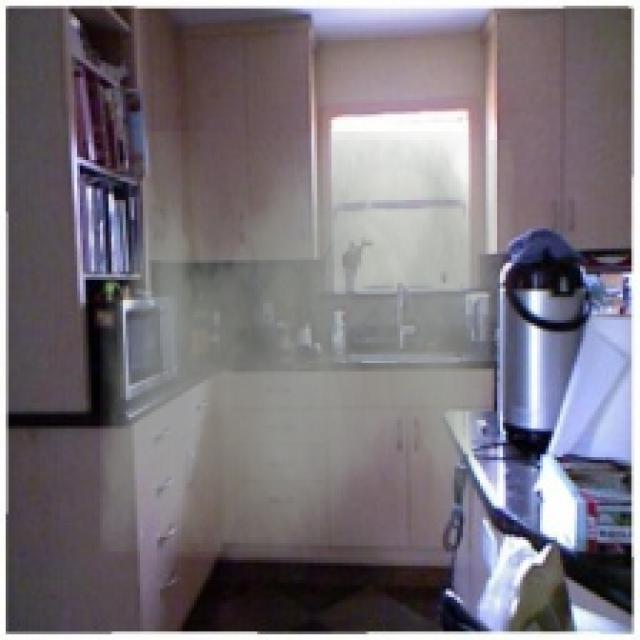Smoke: (100, 132, 514, 557)
